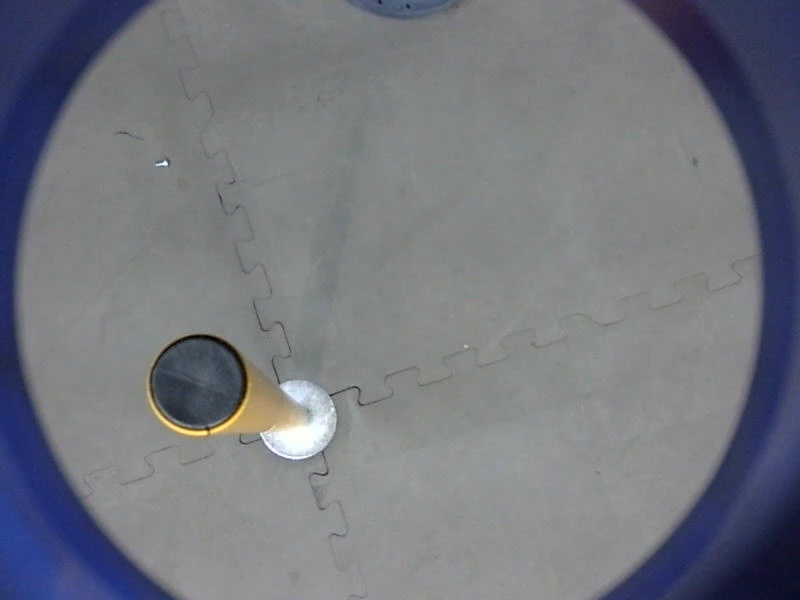tip: (141, 328, 257, 441)
